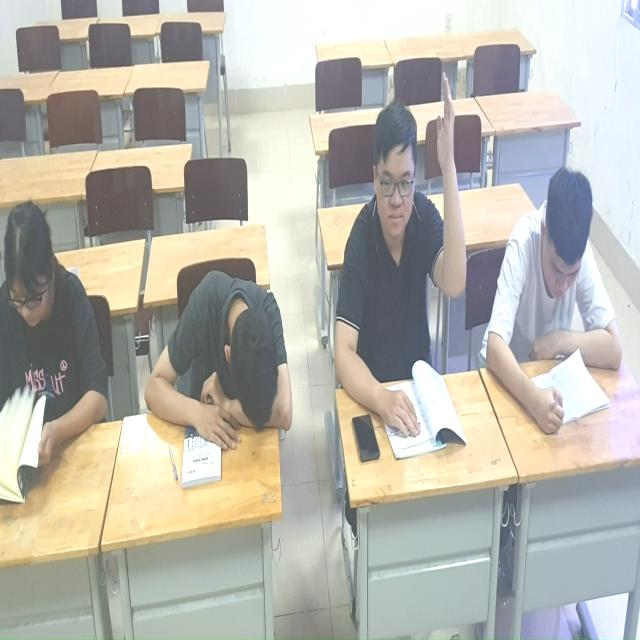raise_hand: (337, 79, 475, 445)
read: (486, 156, 635, 438), (1, 204, 128, 502)
sleep: (139, 269, 296, 468)
